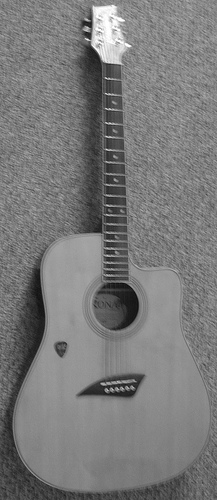guitar: (9, 4, 211, 493)
